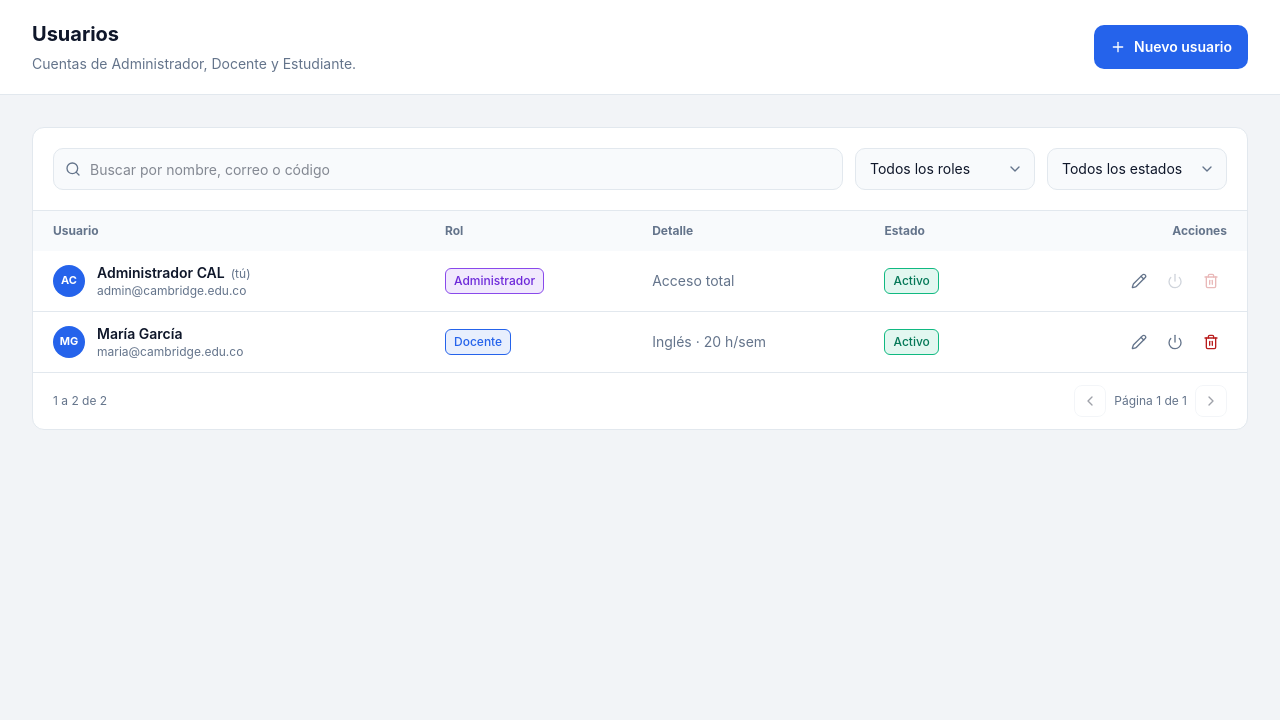
Test: Usuarios (RF-06) › pide confirmación antes de eliminar e informa si se anonimizó
This screenshot has width=1280, height=720.
expect the text "María García" is shown: met, box x1=97 y1=325 x2=182 y2=342
Click the button named "Eliminar a María García" at (1211, 342), box x1=1195 y1=326 x2=1227 y2=358
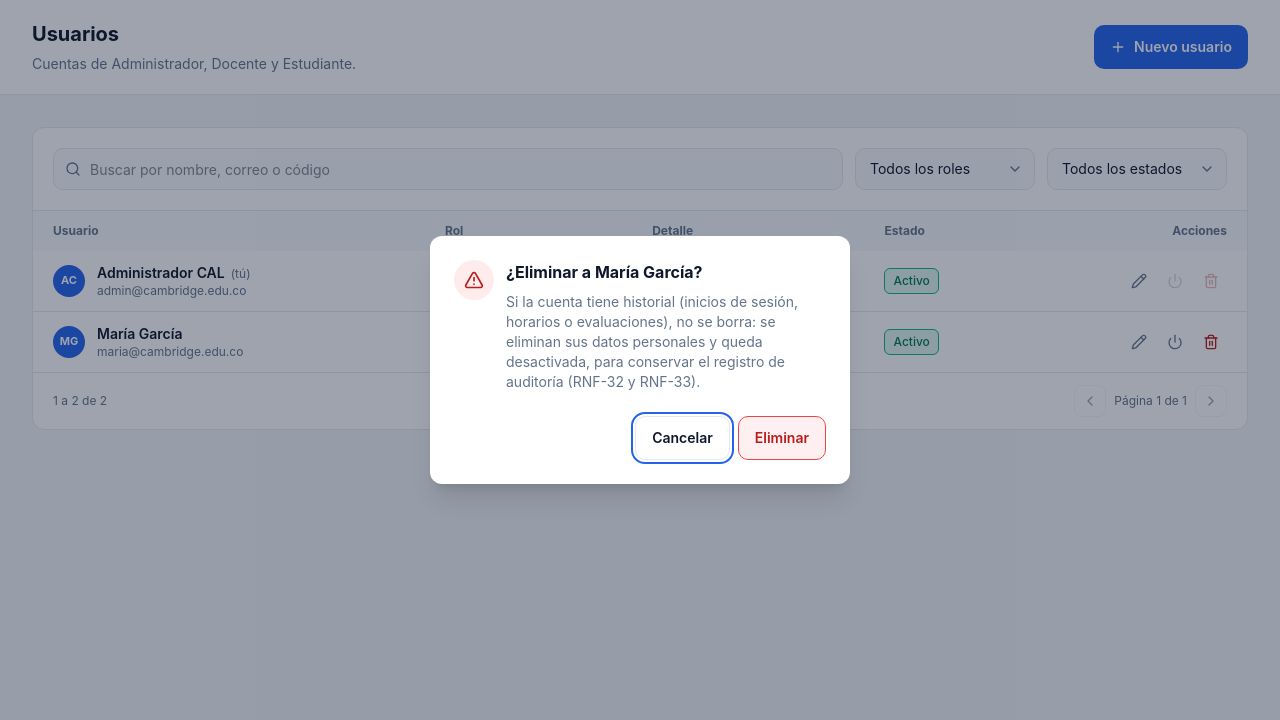
Click the button "Eliminar" at (782, 438), box x1=738 y1=416 x2=826 y2=460
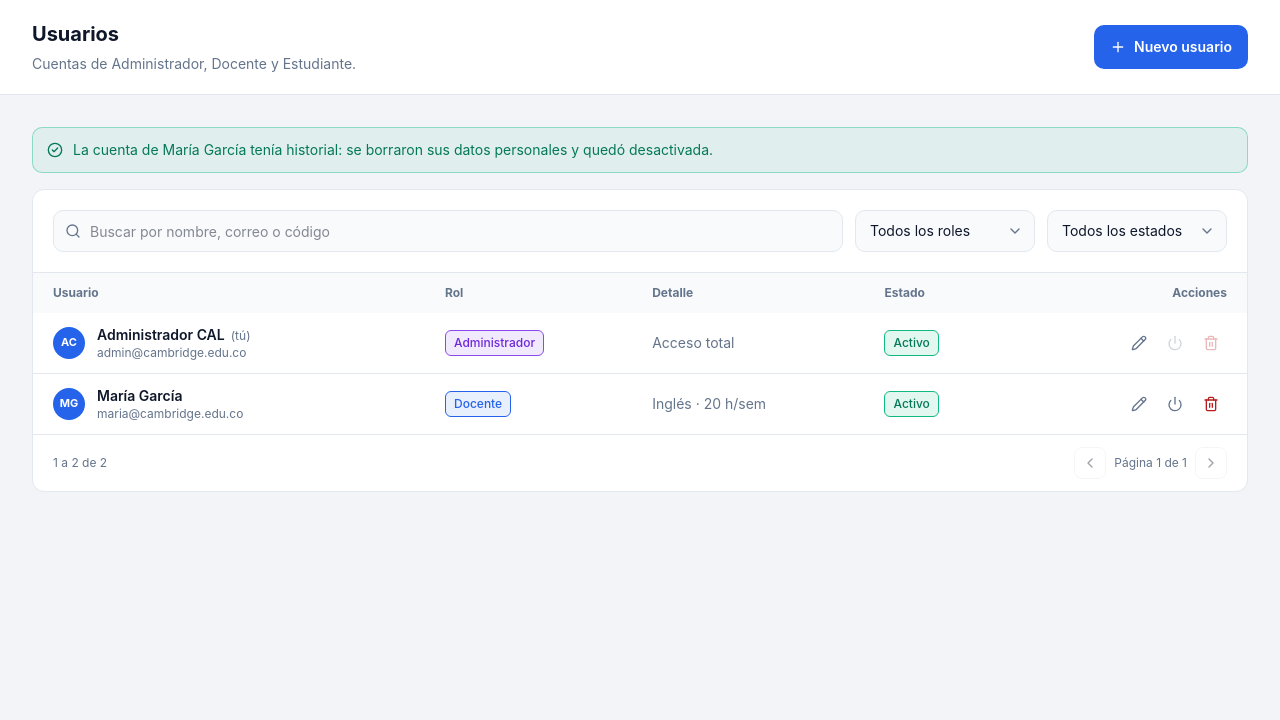
expect the text "se borraron sus datos personales" is shown: met, box x1=73 y1=141 x2=713 y2=158
